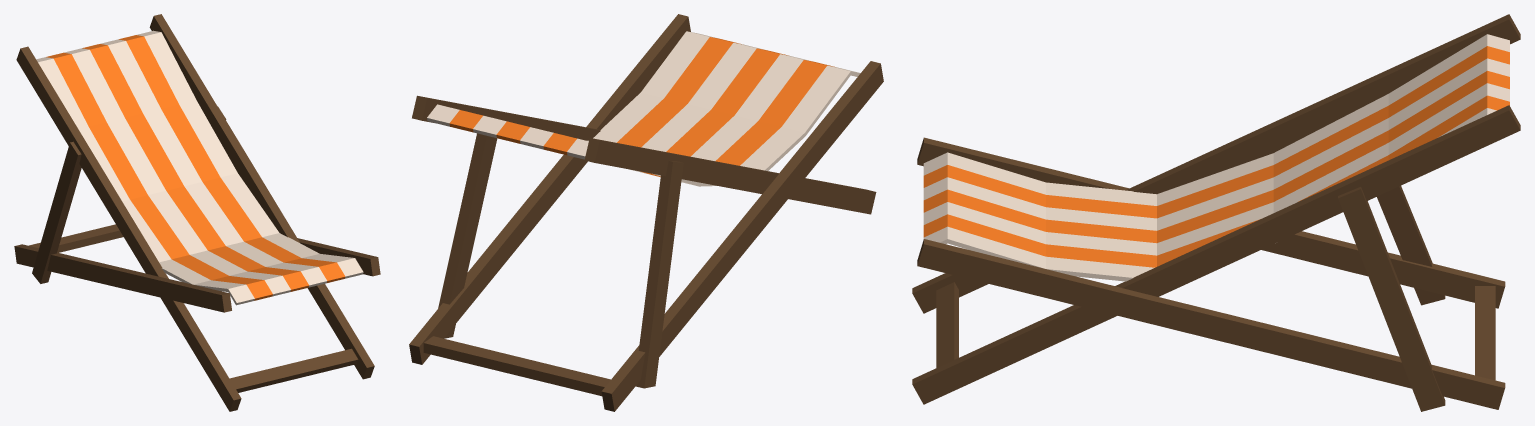
The model's file is lounger.glb.
3 renders of one model, left to right at view 1: azimuth 30°, elevation 25°; view 2: azimuth 150°, elevation 25°; view 3: azimuth 270°, elevation 25°, orthographic. The views are drawn at different scales.
Visible parts, largest first — view 1: lounger; view 2: lounger; view 3: lounger.
Part boxes in pixels (x1,y1,x2,y2): lounger: (14, 14, 380, 411); lounger: (409, 14, 883, 411); lounger: (912, 14, 1520, 411).
Size of the model in its own units: 0.6318 by 0.7751 by 1.45.
Materials: 1 (1 with a texture image).
